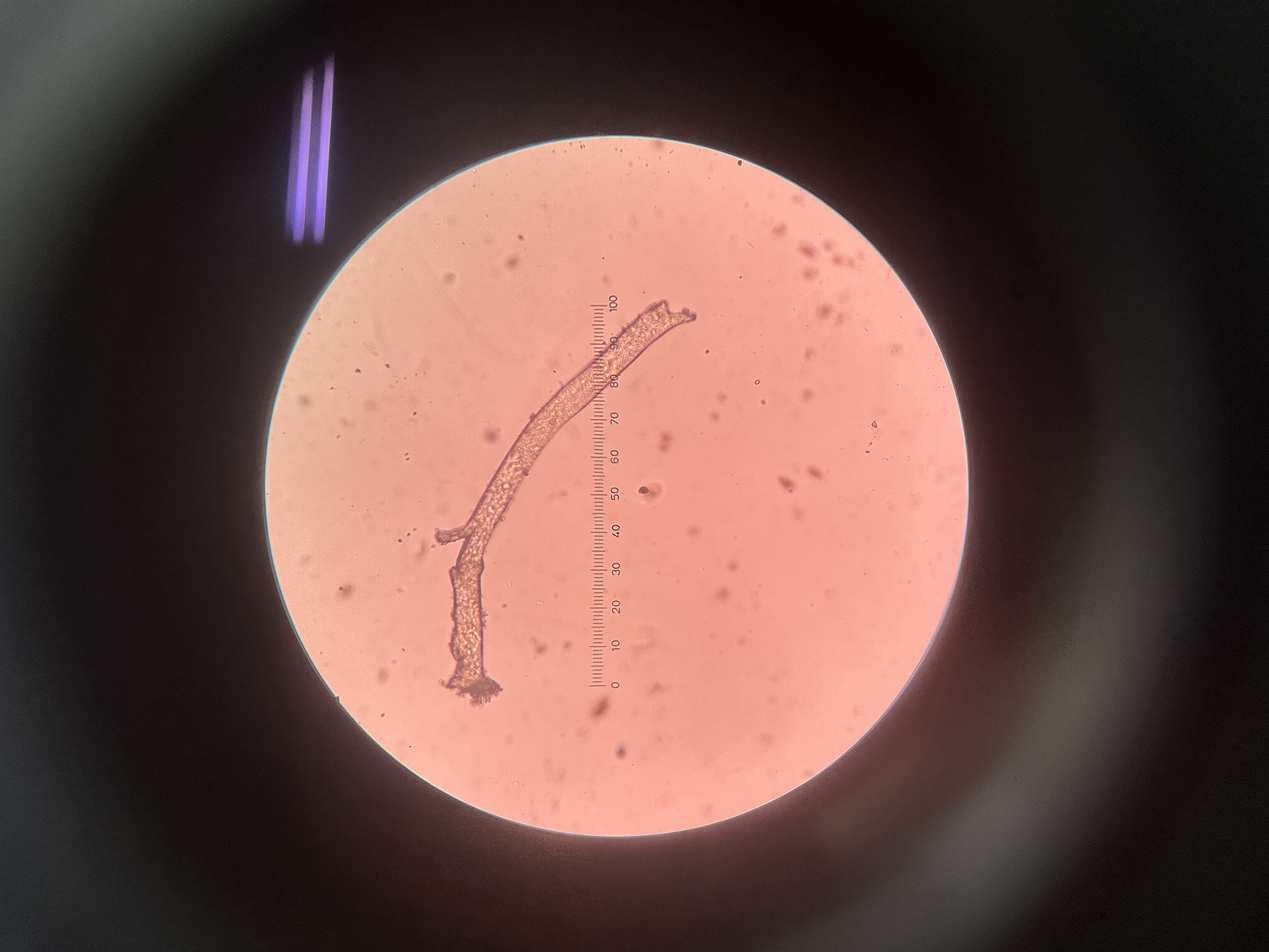not_microplastic: (431, 297, 696, 706)
